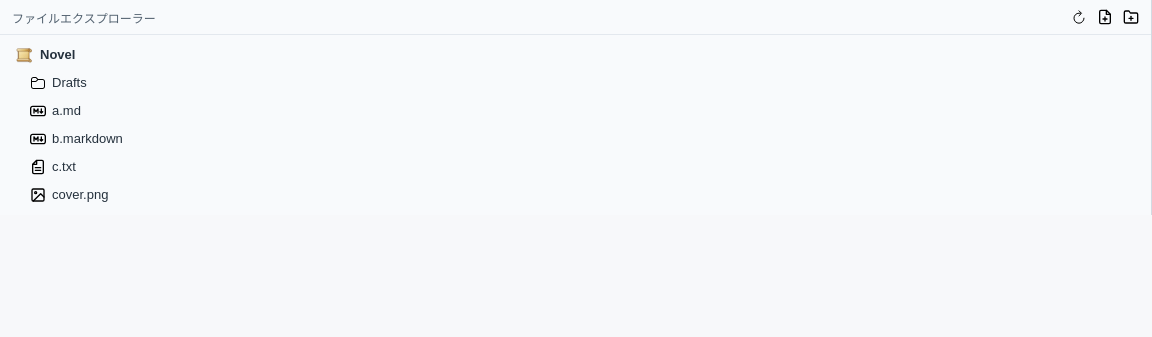
Test: File Explorer 日本語表現チェック context menu (#625 P2a) › does not show the item for Drafts (folder / image; unsupported files are not listed at all)
Right-click the list item "Drafts" at (69, 82), box [6, 69, 1145, 97]
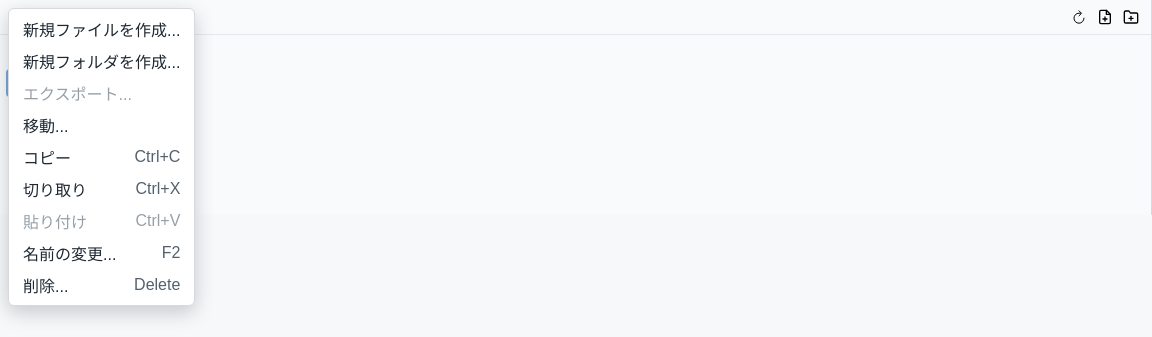
Now the menu item "エクスポート..." is shown, box [13, 77, 190, 109]
